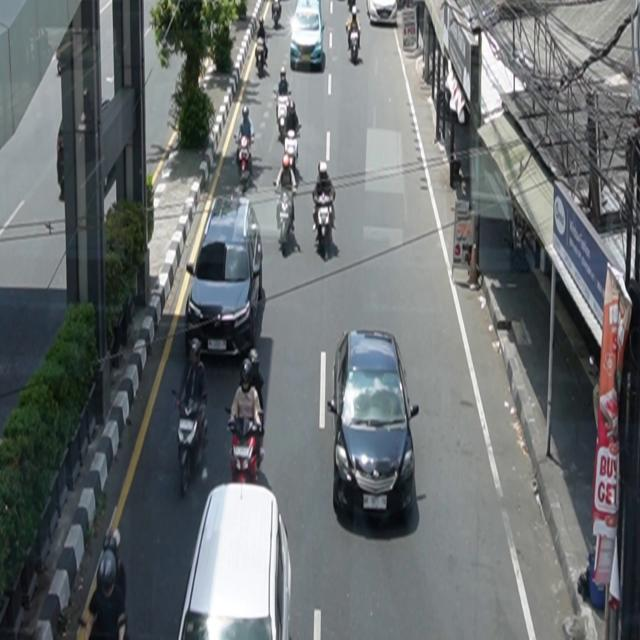car: (178, 483, 293, 640), (328, 329, 420, 525), (290, 1, 326, 72), (367, 1, 399, 27)
